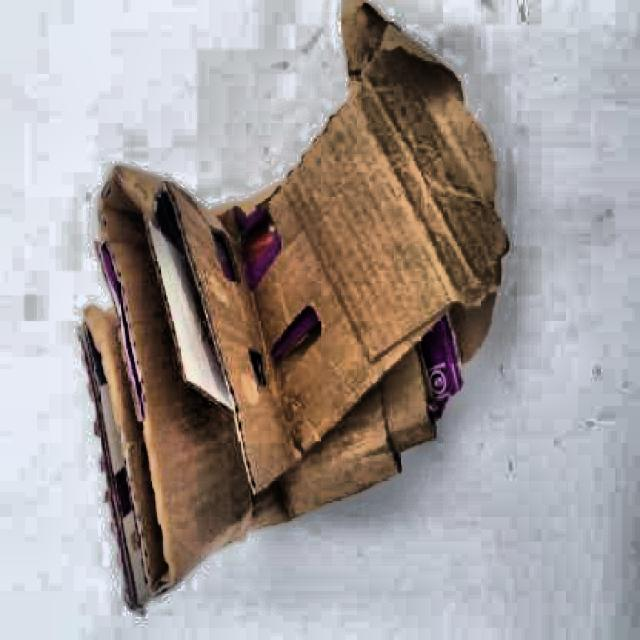Cardbox: (64, 0, 524, 625)
